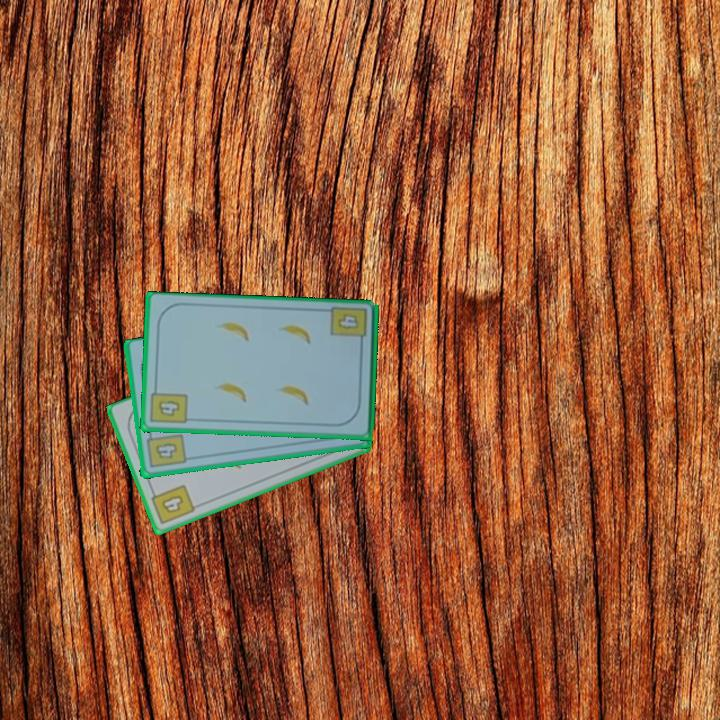4b: (147, 481, 198, 528), (143, 428, 188, 471), (328, 304, 370, 349), (147, 383, 190, 426)
